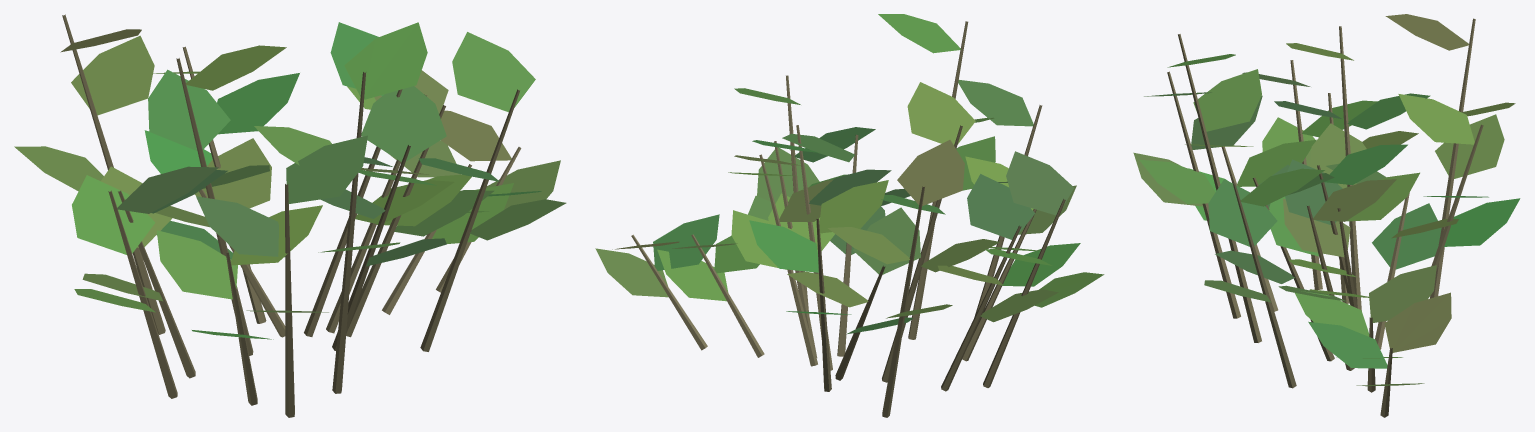
Rendered from bush-01.glb.
The picture shows the model from 3 angles, left to right: view 1: azimuth 30°, elevation 25°; view 2: azimuth 150°, elevation 25°; view 3: azimuth 270°, elevation 25°; orthographic projection. The views are drawn at different scales.
Parts seen in each view (by area): view 1: part_000; view 2: part_000; view 3: part_000.
Boxes of the visible parts, x1,y1,x2,y2 form: part_000: (14,14,566,417); part_000: (595,14,1104,417); part_000: (1133,14,1520,417).
Bounding box in the file's own units: 1.11 × 0.7127 × 0.8076.
